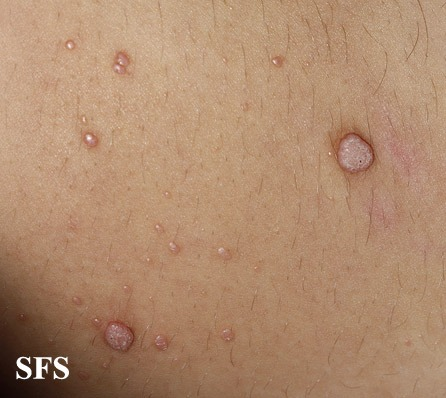Warts: (320, 119, 389, 186), (95, 300, 144, 360), (146, 326, 177, 359)
